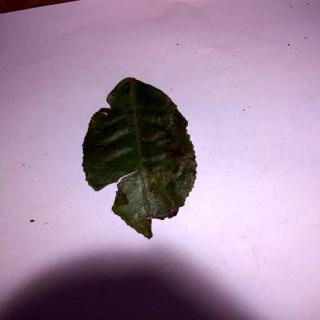Bird Eye Spot: (85, 76, 196, 238)
